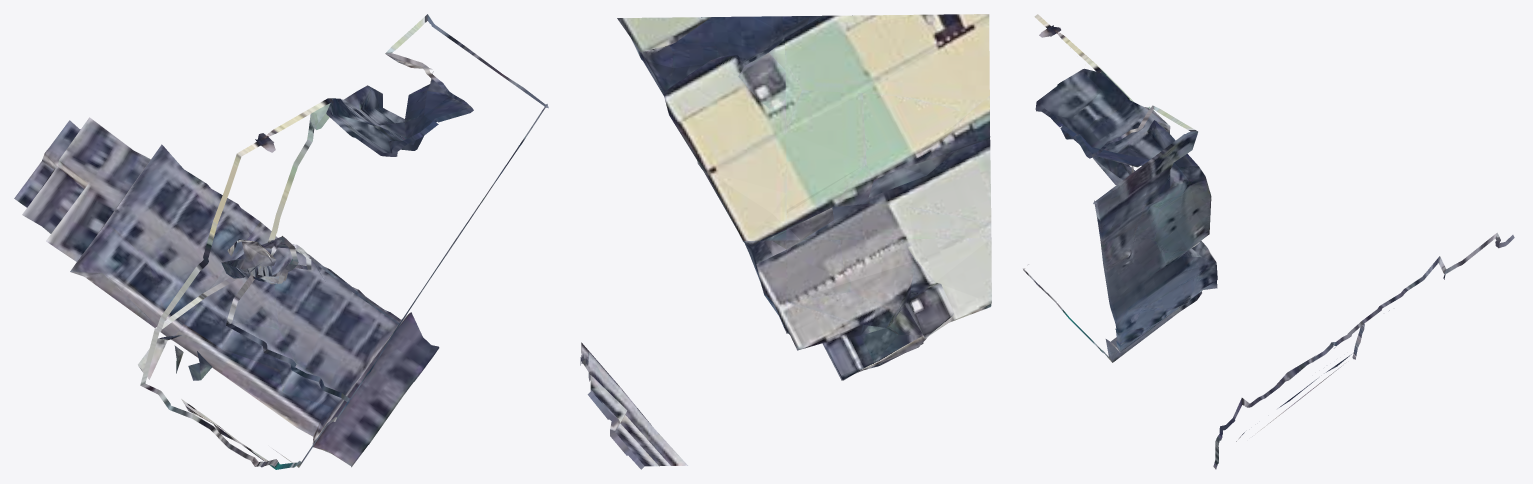
The picture shows the model from 3 angles, left to right: view 1: azimuth 30°, elevation 25°; view 2: azimuth 150°, elevation 25°; view 3: azimuth 270°, elevation 25°; orthographic projection. The views are drawn at different scales.
Size of the model in its own units: 37.38 by 40.44 by 49.75.
Materials: 1 (1 with a texture image).
